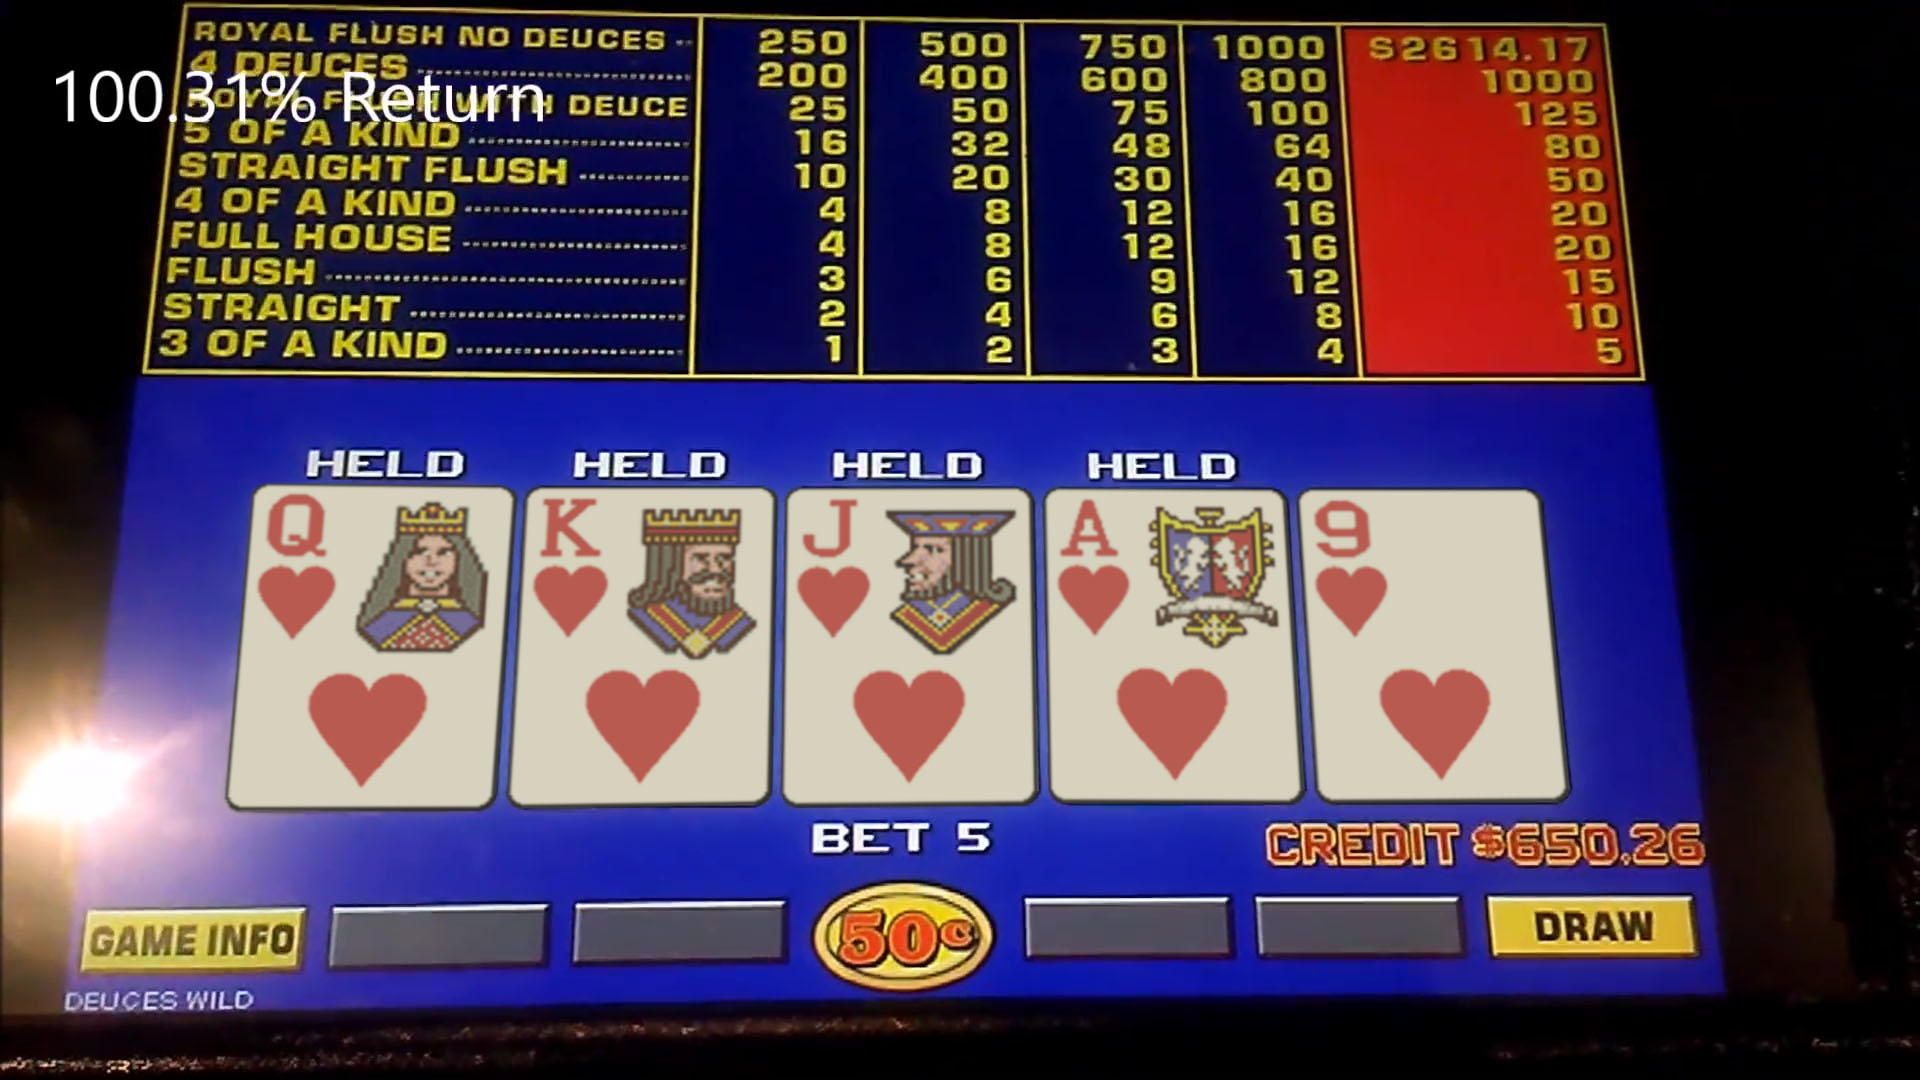H9: (1313, 492, 1549, 802)
HA: (1048, 492, 1290, 800)
HJ: (786, 489, 1035, 803)
HK: (517, 491, 764, 802)
HQ: (247, 487, 498, 808)
